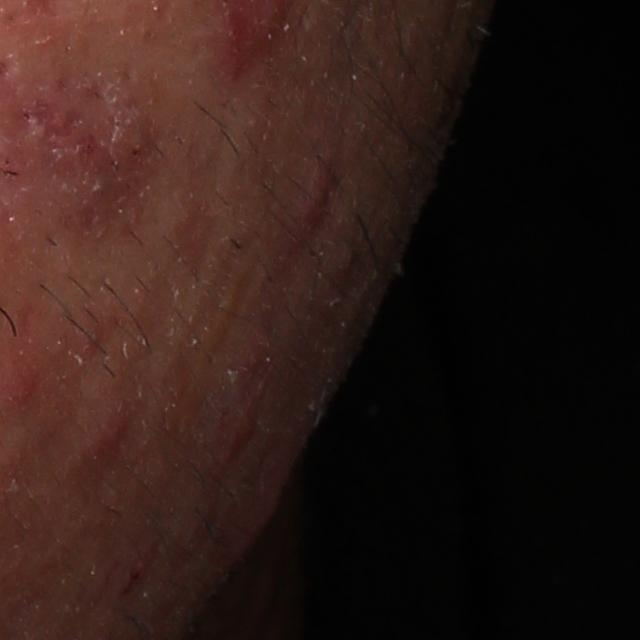nodule: (14, 54, 154, 239)
papule: (209, 384, 269, 476), (220, 480, 278, 572), (300, 142, 341, 224), (96, 382, 135, 458)
